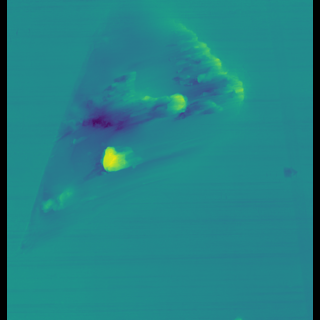Loch: (40, 19, 251, 224)
